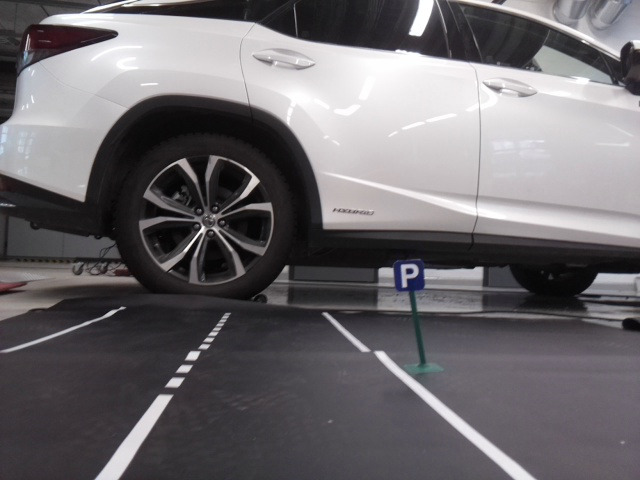Parking: (390, 260, 425, 292)
